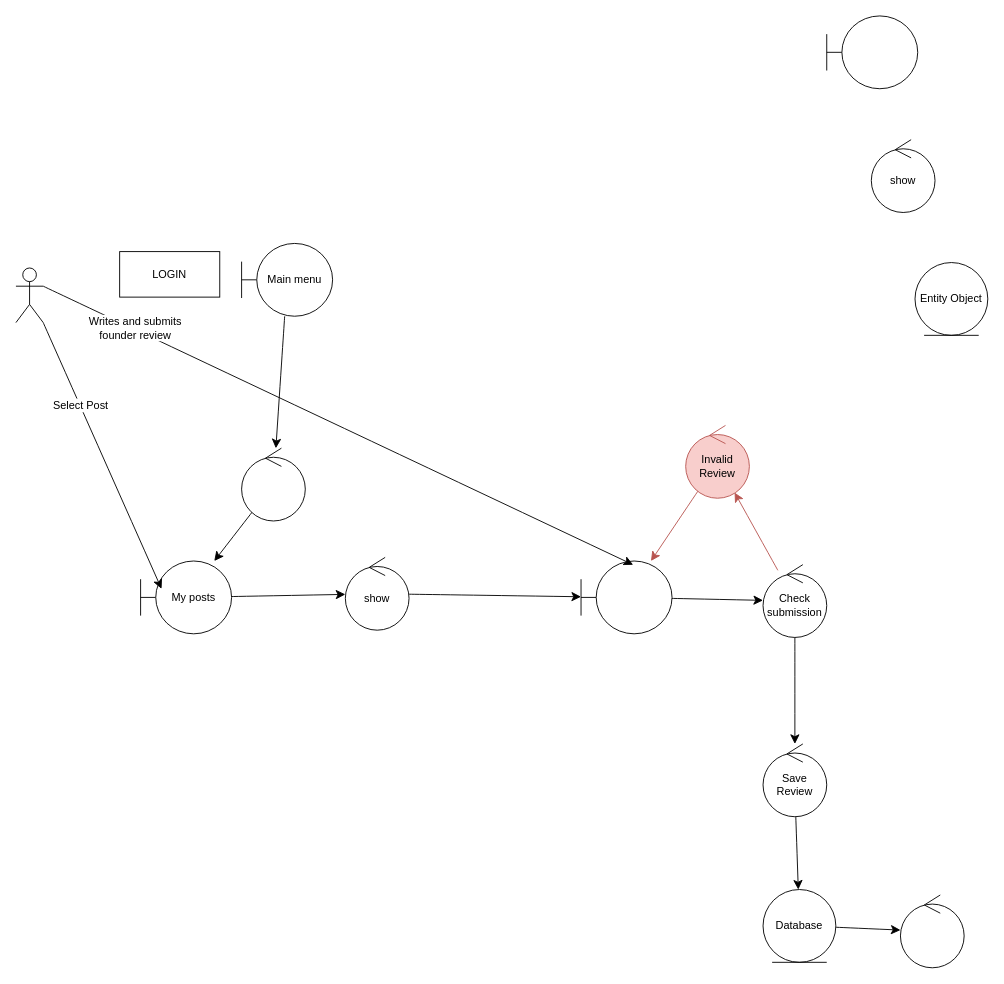
The diagram is 1004 pixels wide and 984 high, and some of its shapes have lost their labels. Each missing label, with the box of its shape:
Actor: (15, 267, 43, 323)
Boundary Object: (826, 15, 918, 89)
Founder Review Page: (580, 560, 672, 634)
Post in Founders Profile: (900, 894, 964, 968)
Show My Posts: (241, 447, 305, 521)
